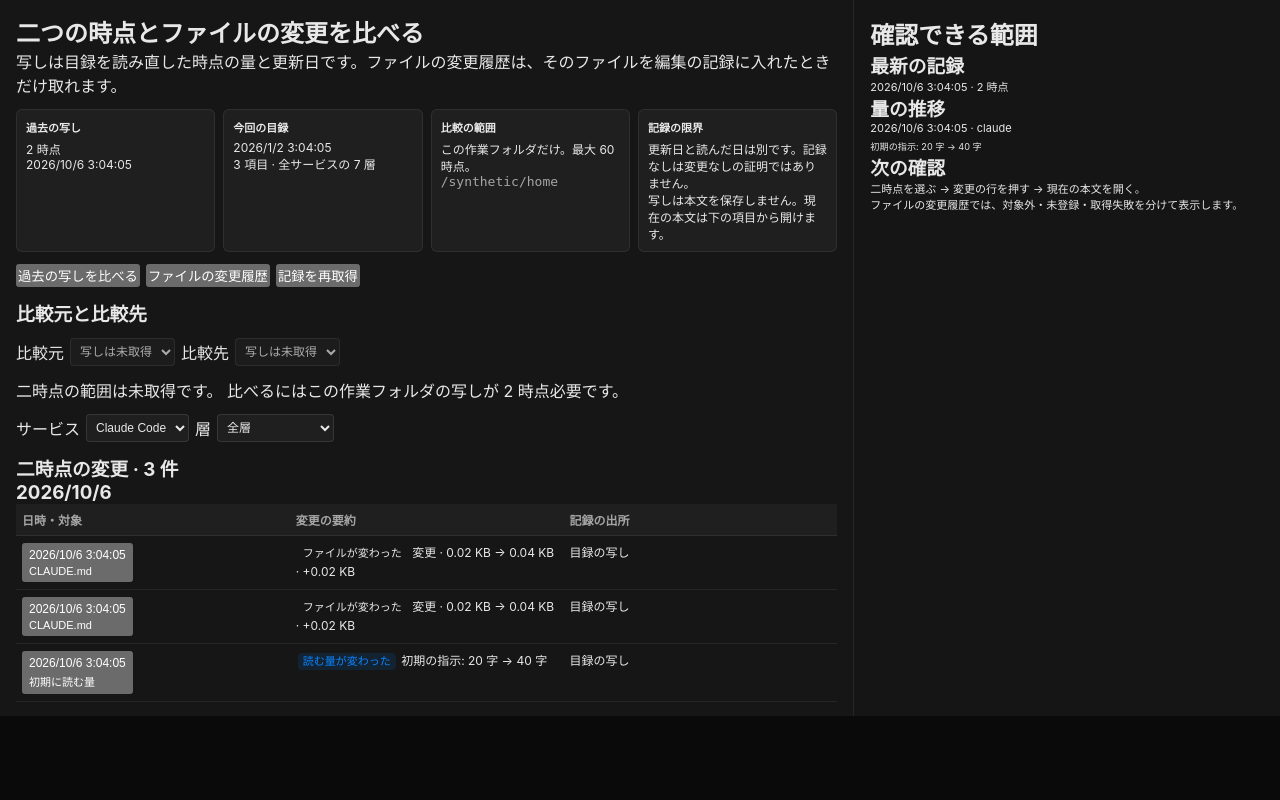
Test: agent design history › shows settings as safe fields and explains hidden secrets
Click the button "ファイルの変更履歴": [208, 276] box [146,264,270,287]
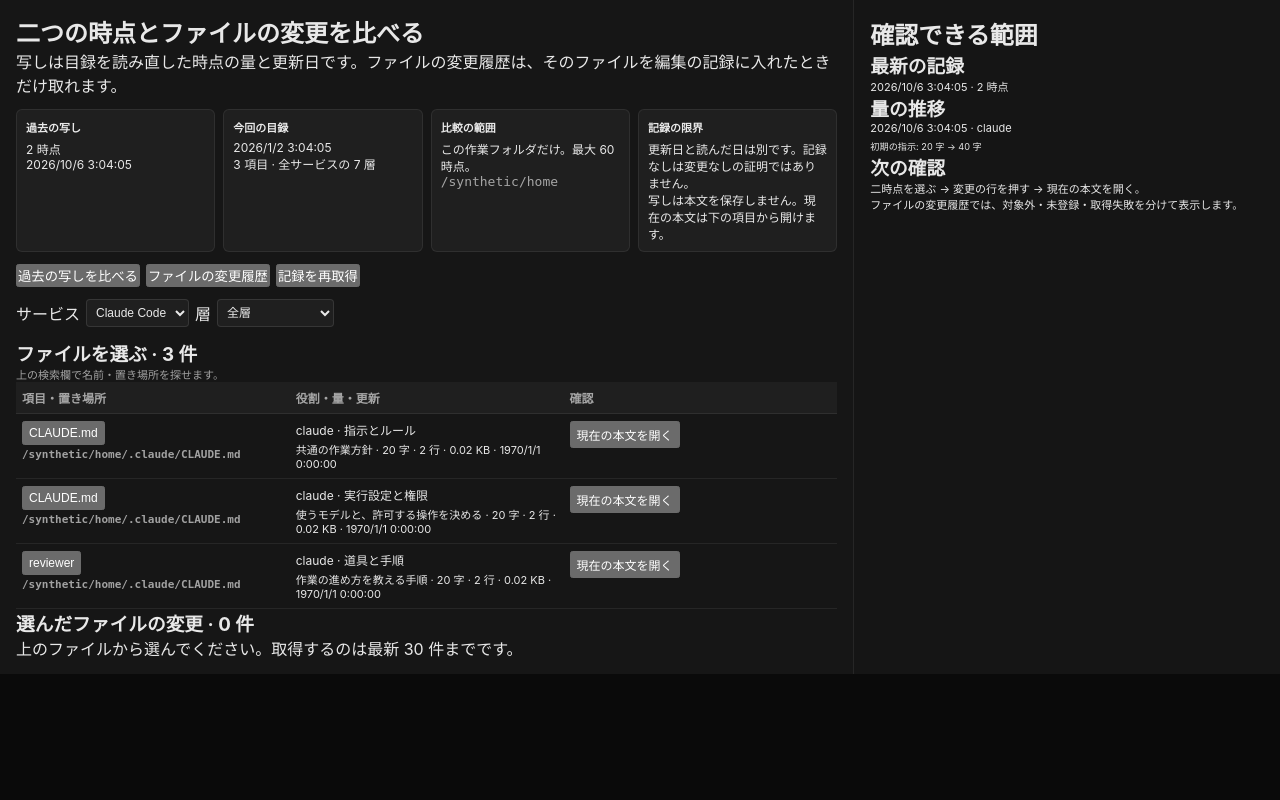
Click the button "CLAUDE.md" in the row of "指示とルール": [63, 433] box [22,421,105,445]
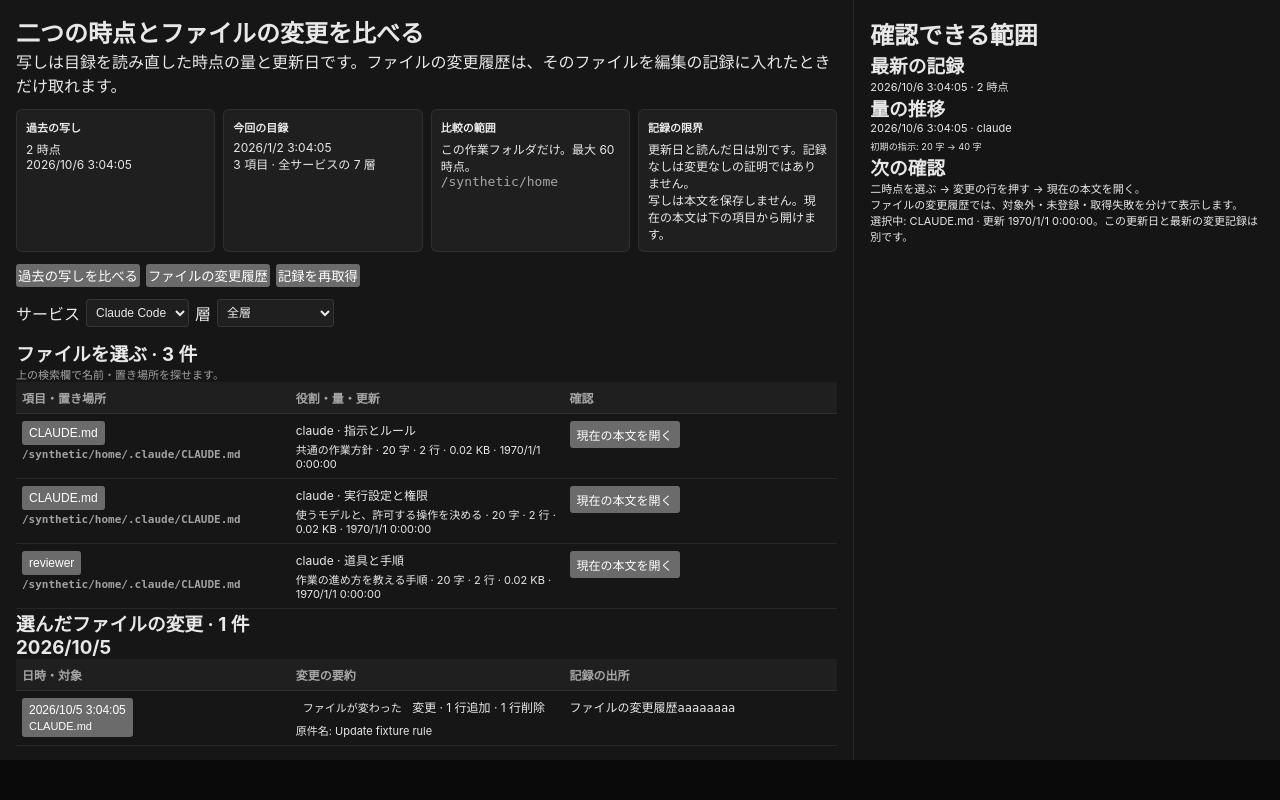
Click the button "2026/10/5 3:04:05 CLAUDE.md": [77, 718] box [22,698,133,737]
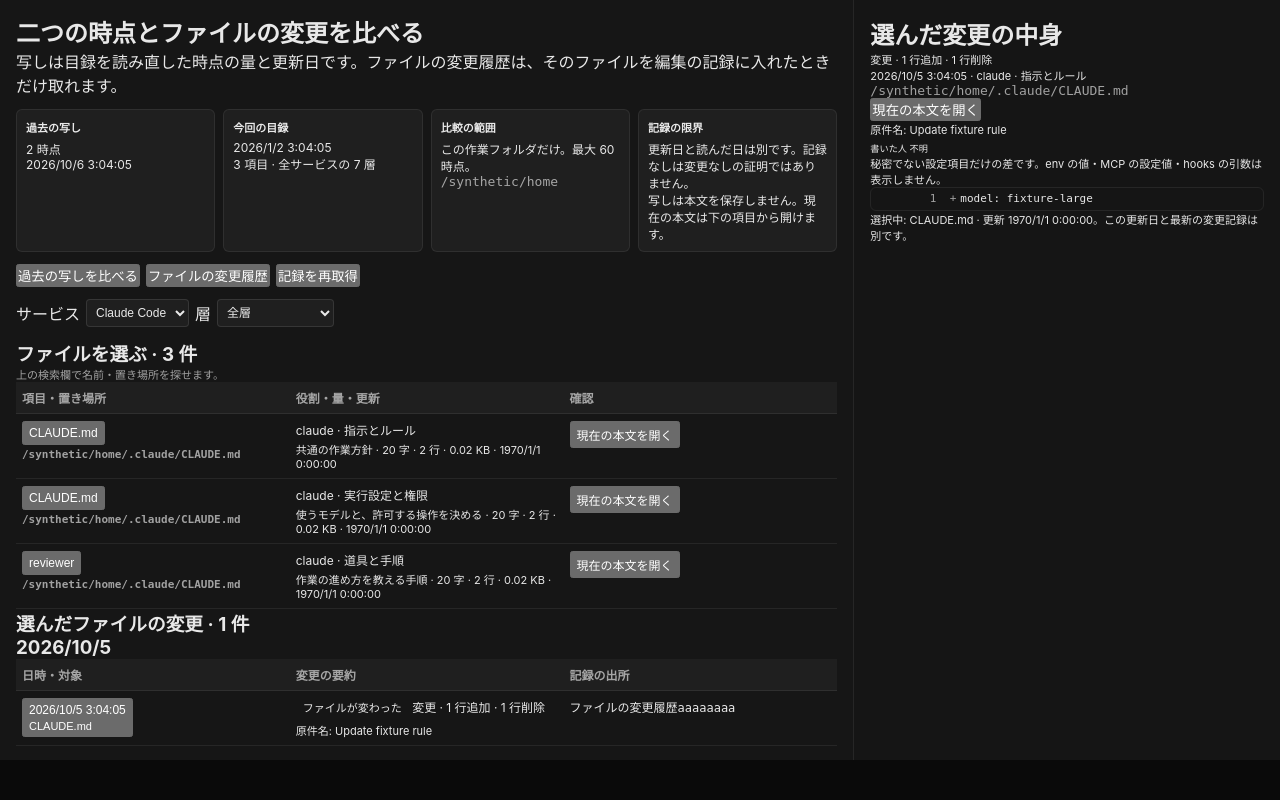
Expected: the element with class "ad-detail" shows "秘密でない設定項目だけの差です。env の値・MCP の設定値・hooks の引数は表示しません。", [870,157,1262,187]
Expected: the element with class "ad-history-diff" shows "model: fixture-large", [960,192,1093,205]
